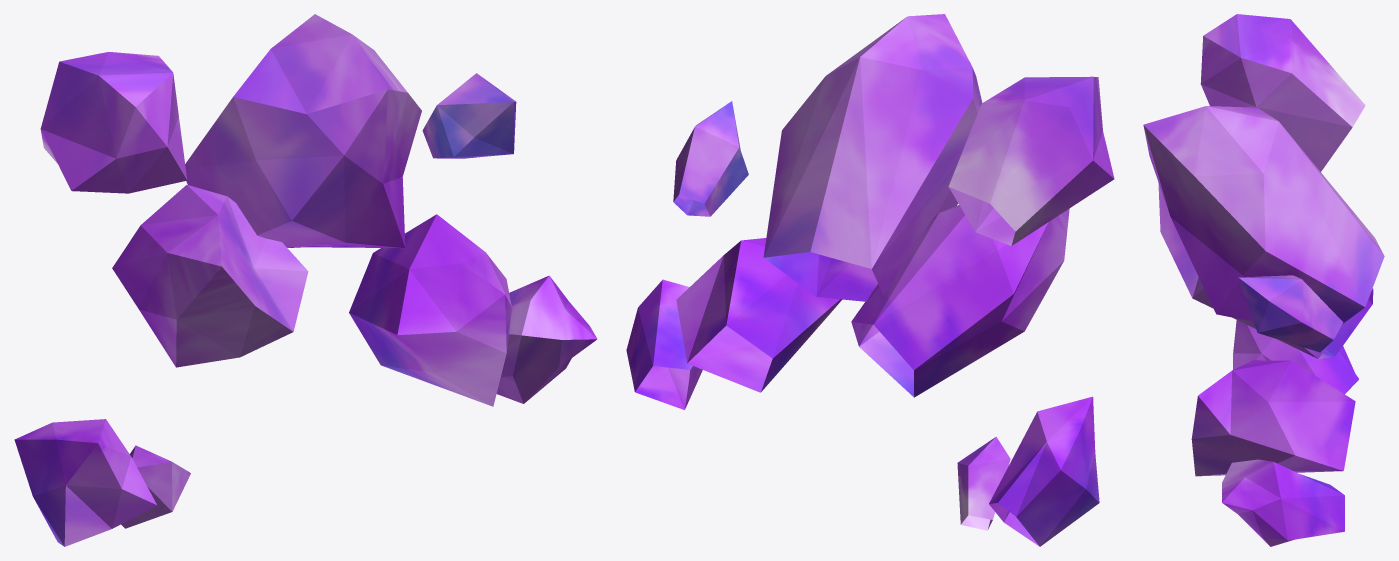
Rendered from rockface_natural_crystalcliff01_01.FBX.
3 renders of one model, left to right at view 1: azimuth 30°, elevation 25°; view 2: azimuth 150°, elevation 25°; view 3: azimuth 270°, elevation 25°, orthographic. The views are drawn at different scales.
Parts seen in each view (by area): view 1: rockface_natural_crystalcliff01_01; view 2: rockface_natural_crystalcliff01_01; view 3: rockface_natural_crystalcliff01_01.
Part boxes in pixels (x1=…): rockface_natural_crystalcliff01_01: x1=14, y1=14, x2=597, y2=546; rockface_natural_crystalcliff01_01: x1=626, y1=14, x2=1114, y2=546; rockface_natural_crystalcliff01_01: x1=1143, y1=14, x2=1384, y2=546.
Bounding box in the file's own units: 3.69 × 3.33 × 1.81.
